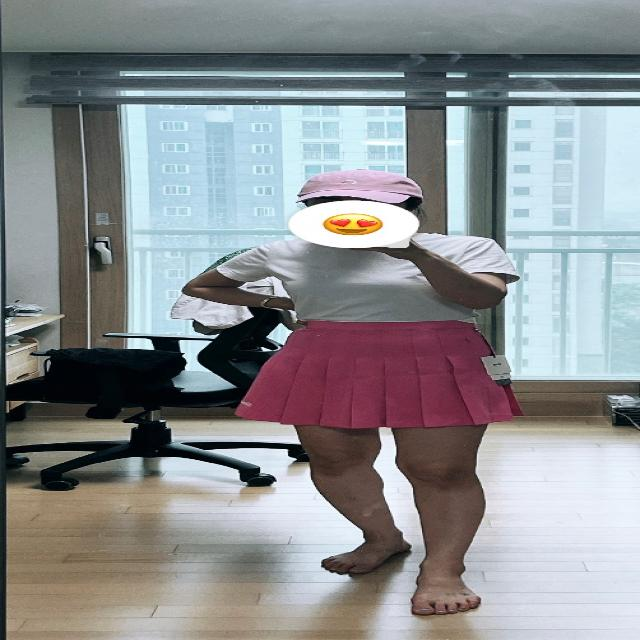shortsleeve: (222, 233, 520, 322)
skirt: (235, 320, 515, 430)
